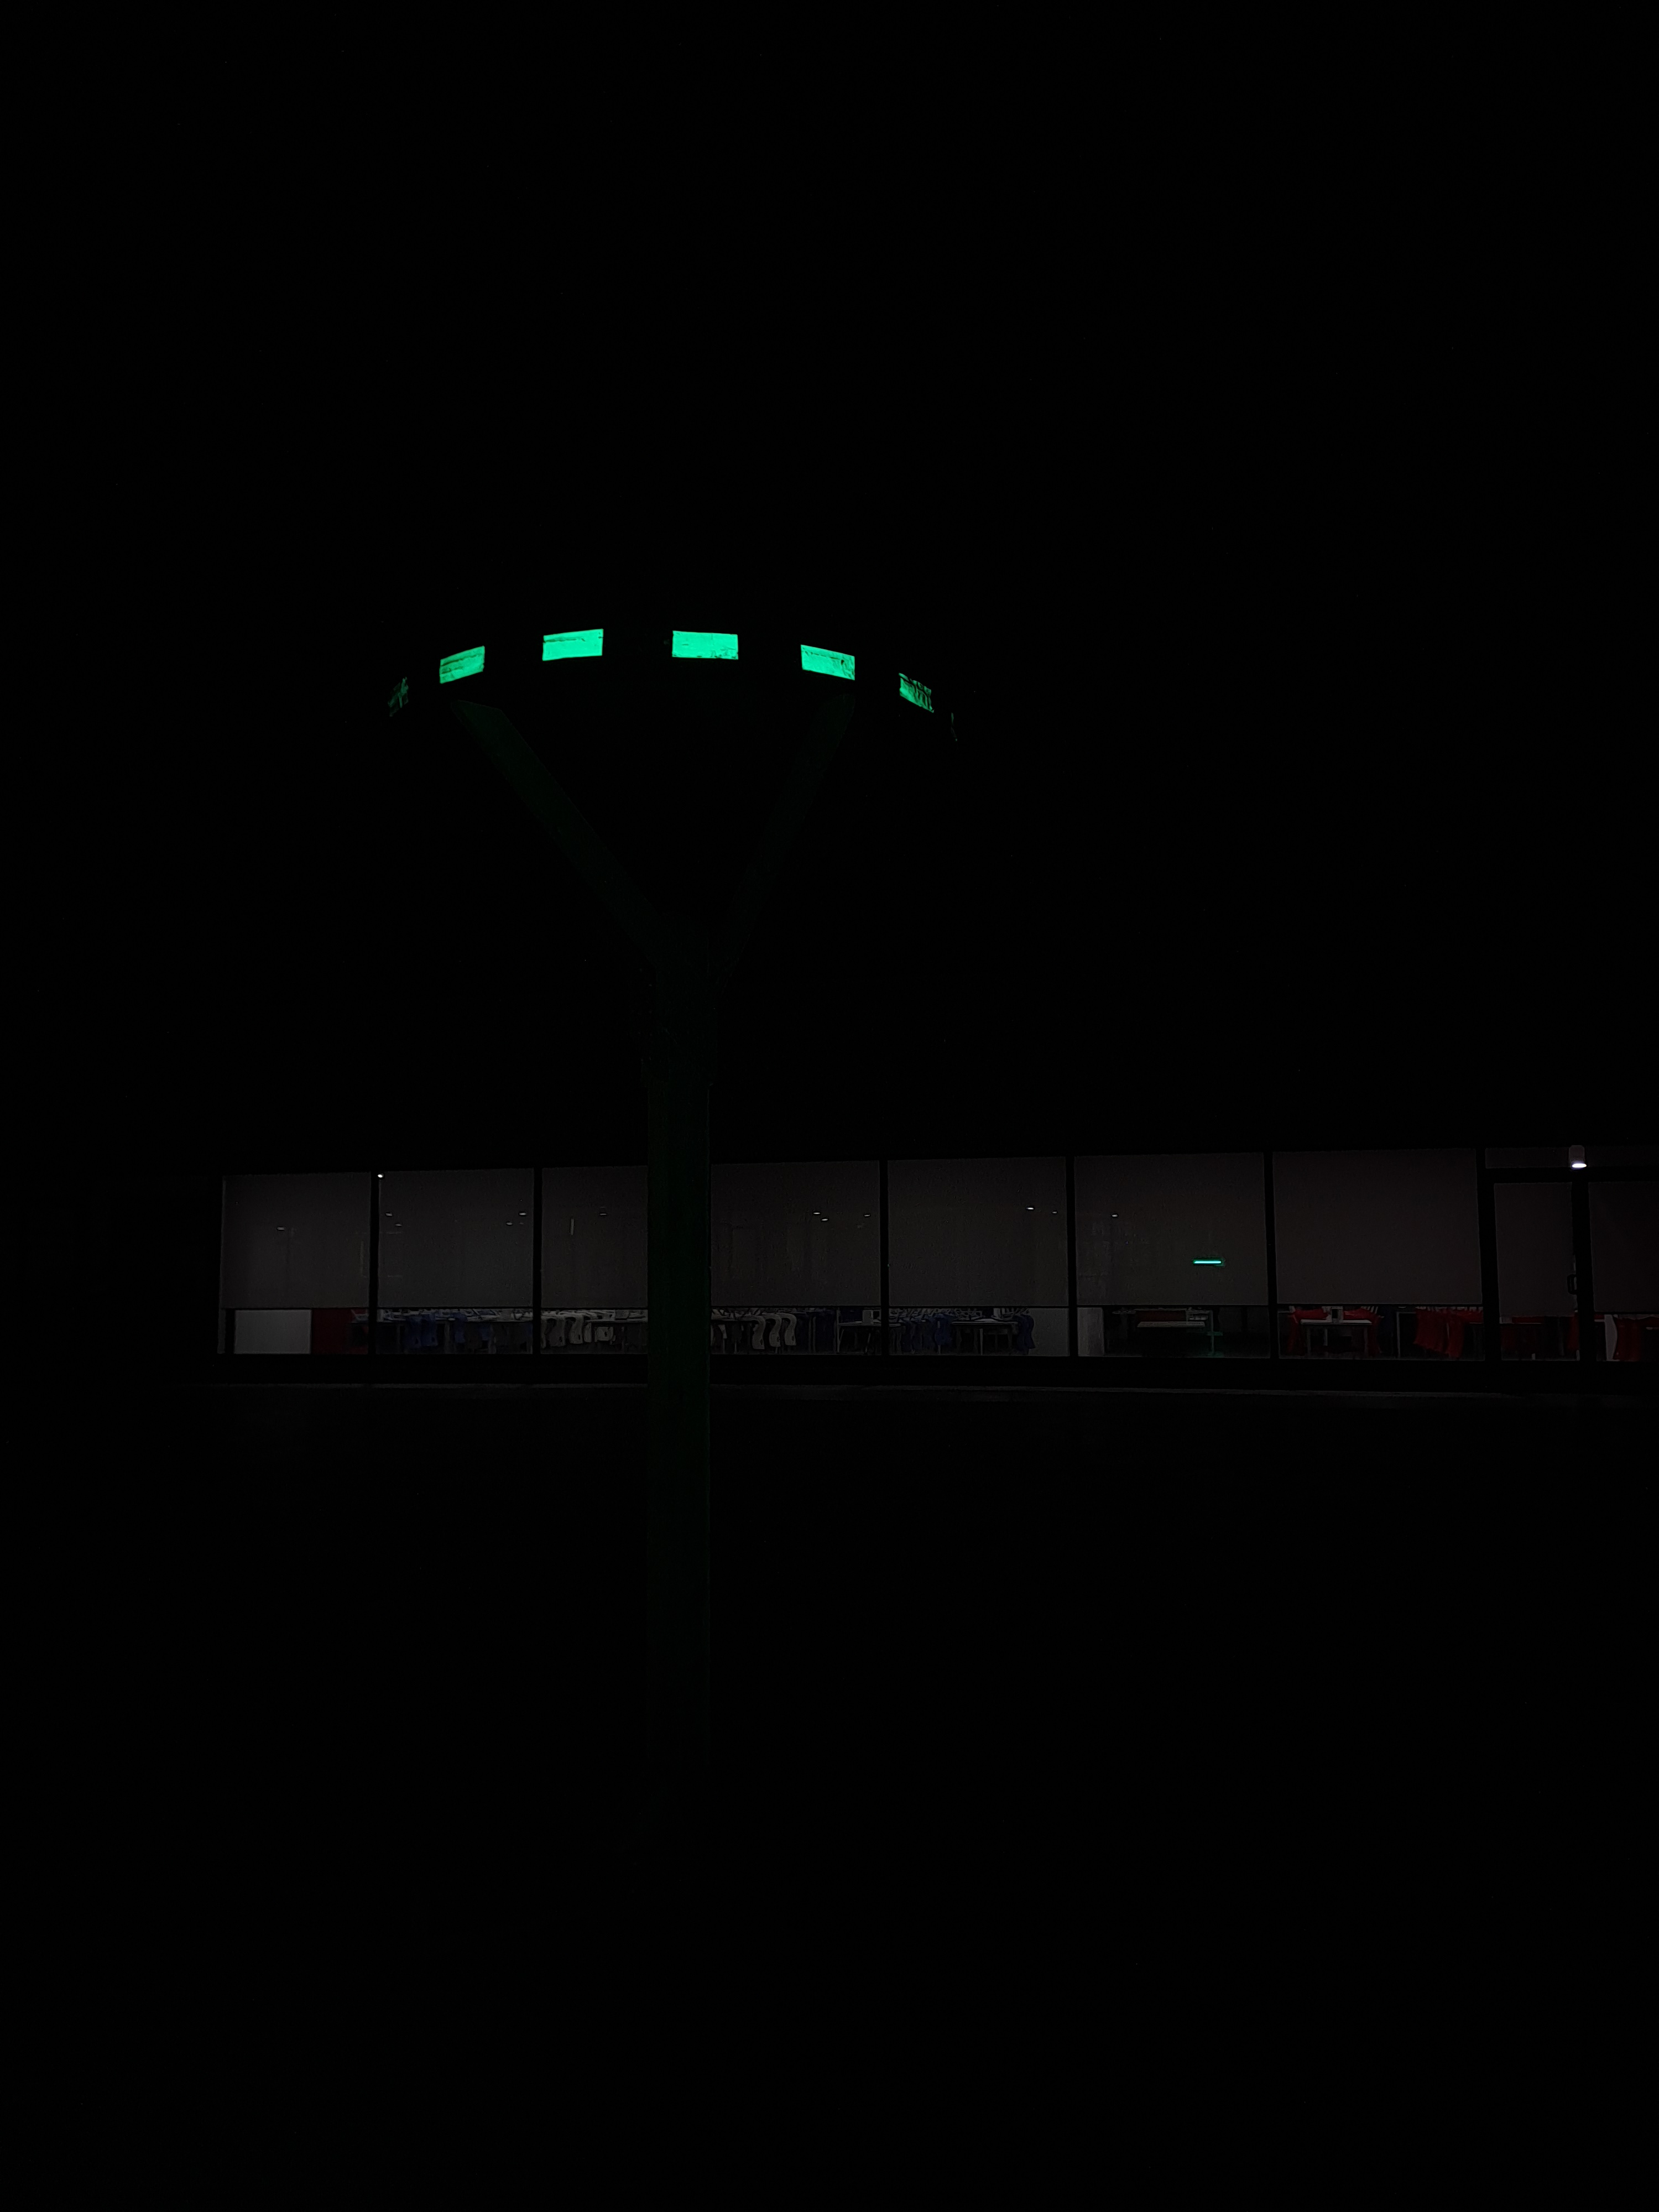hoop: (429, 624, 938, 718)
